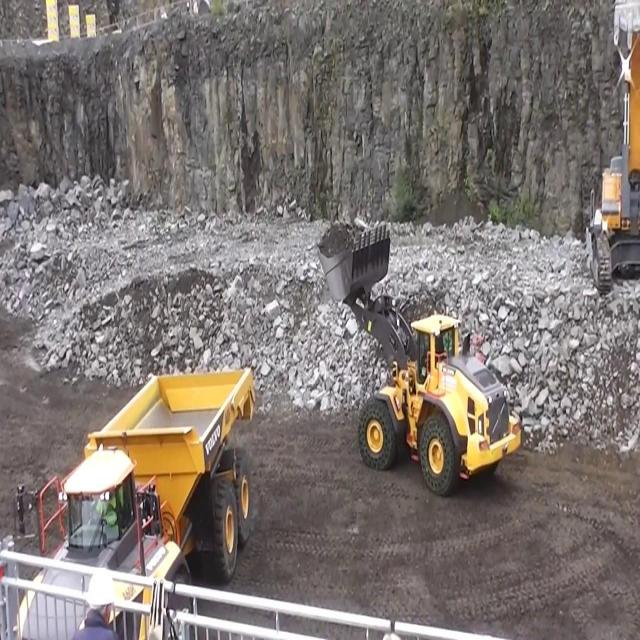Excavator: (590, 13, 640, 295)
Loader: (318, 228, 520, 492)
